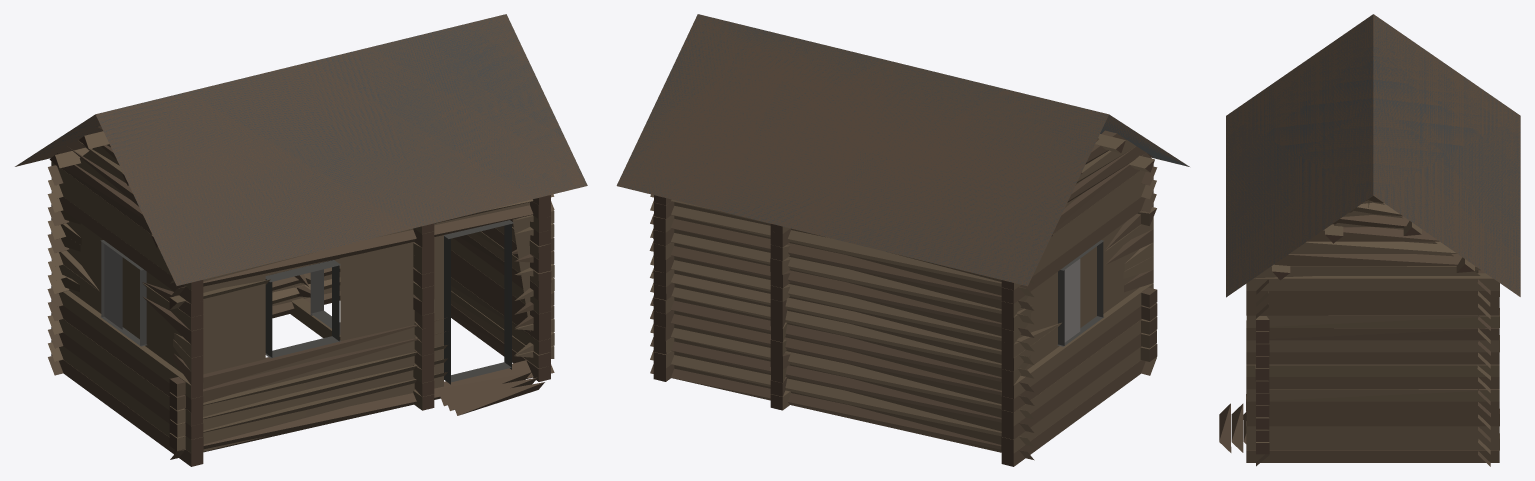
Rendered from log-cabin.lod2.glb.
3 renders of one model, left to right at view 1: azimuth 30°, elevation 25°; view 2: azimuth 150°, elevation 25°; view 3: azimuth 270°, elevation 25°, orthographic. The views are drawn at different scales.
Visible parts, largest first — view 1: Base_Wood1b_0; view 2: Base_Wood1b_0; view 3: Base_Wood1b_0.
Part boxes in pixels (<box>): Base_Wood1b_0: <box>15,14,587,466</box>; Base_Wood1b_0: <box>616,14,1189,466</box>; Base_Wood1b_0: <box>1219,14,1520,466</box>.
Size of the model in its own units: 6.3 by 4.5 by 4.42.
